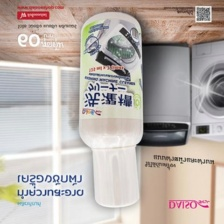cleaning_solution: (74, 8, 146, 211)
